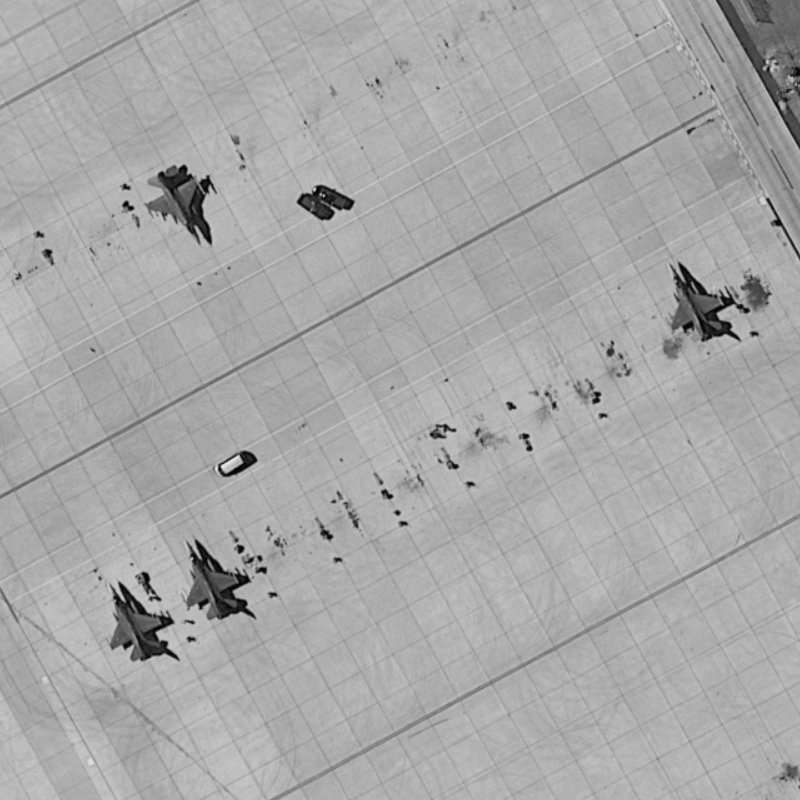A5: (140, 159, 209, 249), (180, 538, 246, 626), (101, 580, 169, 664), (662, 258, 729, 340)
